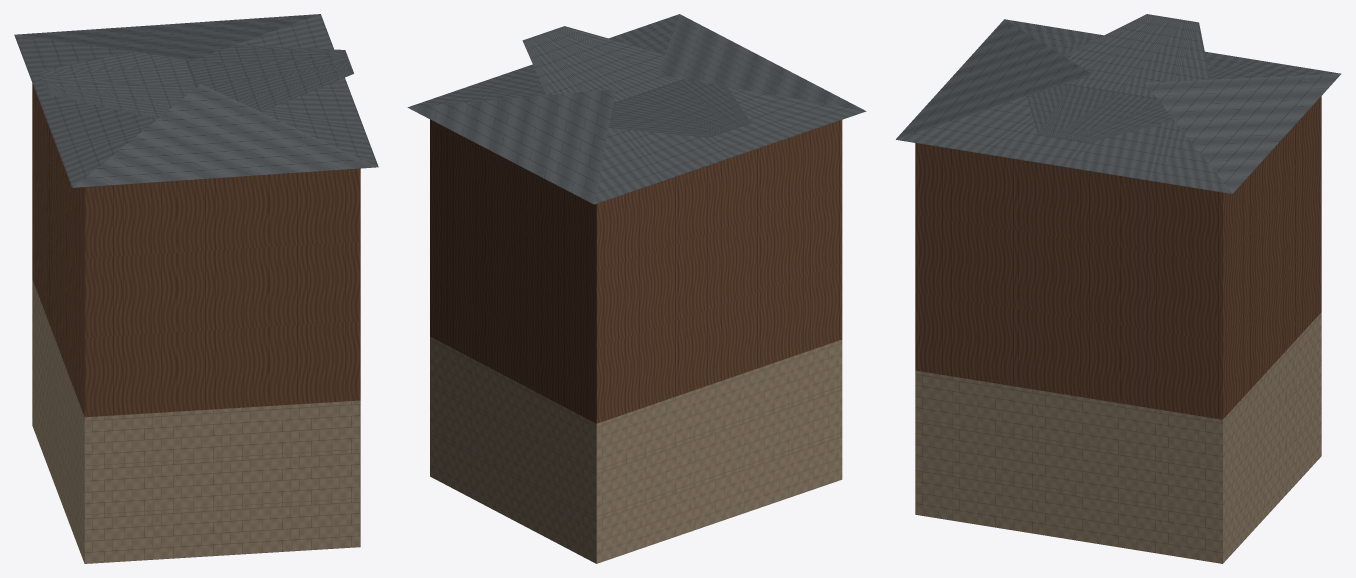
File: bld_c15_9_541.gltf
The picture shows the model from 3 angles, left to right: view 1: azimuth 30°, elevation 25°; view 2: azimuth 150°, elevation 25°; view 3: azimuth 270°, elevation 25°; orthographic projection. The views are drawn at different scales.
Parts seen in each view (by area): view 1: bld_c15_9_541; view 2: bld_c15_9_541; view 3: bld_c15_9_541.
Part boxes in pixels (x1=…): bld_c15_9_541: x1=14, y1=14, x2=378, y2=563; bld_c15_9_541: x1=407, y1=14, x2=866, y2=563; bld_c15_9_541: x1=896, y1=14, x2=1341, y2=563.
Bounding box in the file's own units: 13.27 × 14.4 × 14.31.
Materials: 3 (3 with a texture image).
